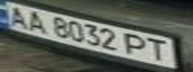0: (66, 19, 84, 43)
2: (100, 26, 121, 52)
3: (81, 21, 103, 47)
8: (45, 15, 72, 39)
A: (21, 8, 51, 34), (3, 3, 30, 28)
P: (124, 30, 151, 57)
T: (142, 36, 175, 63)
